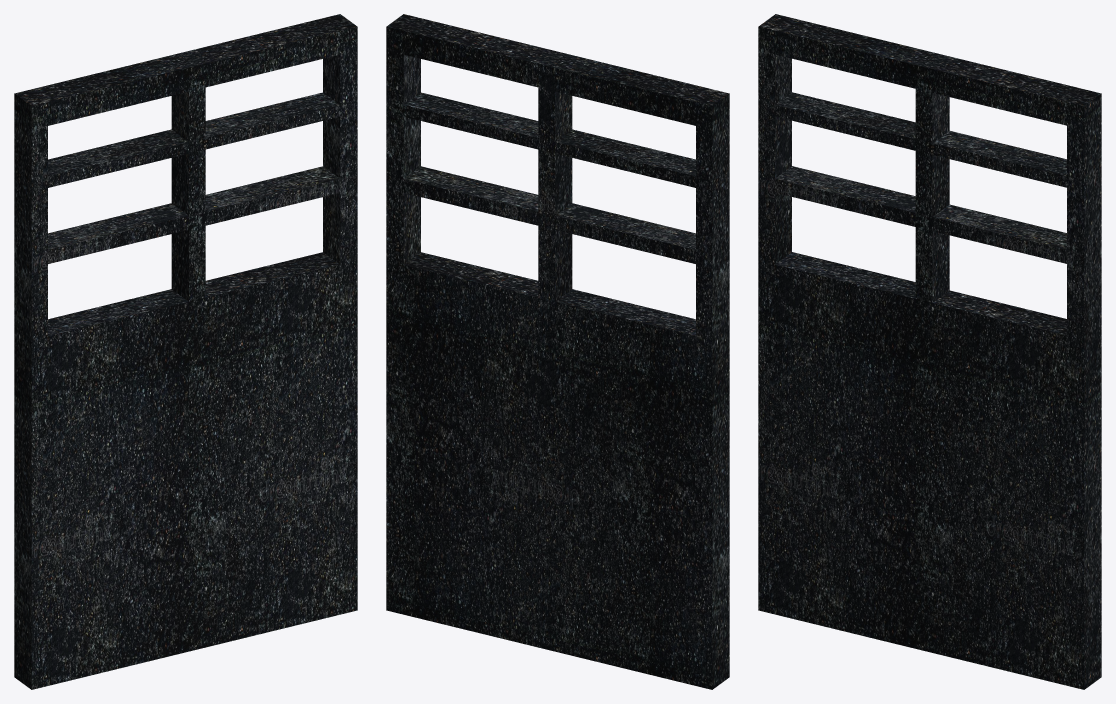
The model's file is Puerta00.obj.
3 renders of one model, left to right at view 1: azimuth 30°, elevation 25°; view 2: azimuth 150°, elevation 25°; view 3: azimuth 330°, elevation 25°, orthographic.
Parts seen in each view (by area): view 1: Cuadro:polySurface52; view 2: Cuadro:polySurface52; view 3: Cuadro:polySurface52.
Part boxes in pixels (bbox=[...]): Cuadro:polySurface52: bbox=[14, 14, 357, 689]; Cuadro:polySurface52: bbox=[386, 14, 729, 689]; Cuadro:polySurface52: bbox=[758, 14, 1101, 689].
Size of the model in its own units: 1.02 by 1.75 by 0.0936.
1 material, 1 textured.
